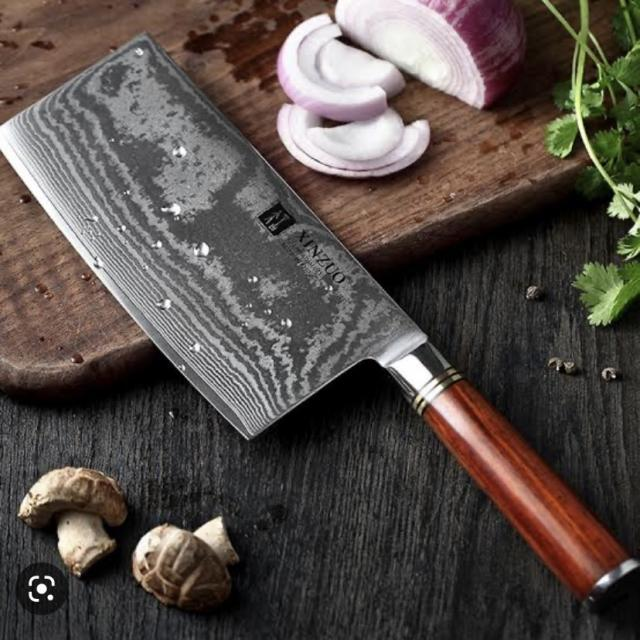Knife: (0, 12, 640, 625)
